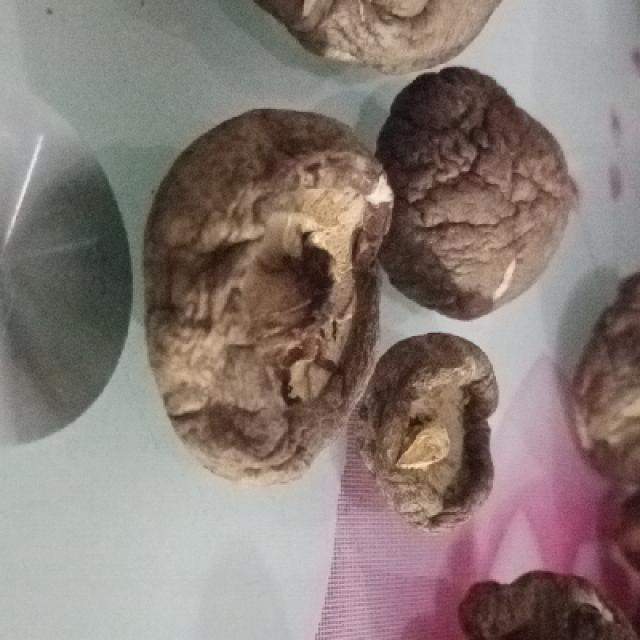Lentinus edodes: (147, 107, 393, 484), (372, 67, 575, 320), (365, 332, 499, 530)
